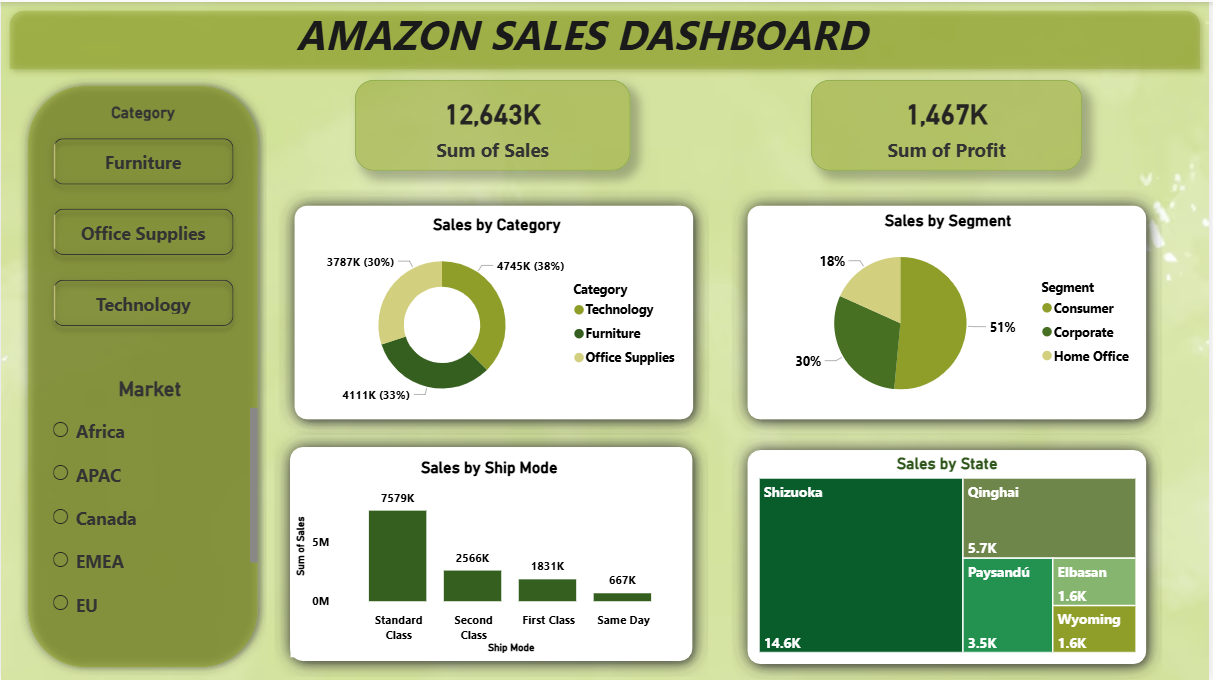

The dashboard page shown, as its layout file describes it:
{"tool":"powerbi","page":{"name":"Page 1","canvas":[1280,720],"ordinal":0},"visuals":[{"type":"shape","box":[0,0,1280.4,80.4],"z":0},{"type":"textbox","box":[0,0,1231.4,80.4],"z":1000},{"type":"shape","box":[294.1,198,456.9,260.8],"z":2000},{"type":"donutChart","title":"Sales by Category","fields":{"Category":["Orders.Category"],"Y":["Sum(Orders.Sales)"]},"box":[323.5,225.5,405.9,211.8],"z":3000},{"type":"shape","box":[18.8,79.2,262.5,635.4],"z":4000},{"type":"shape","box":[774.5,198,456.9,260.8],"z":5000},{"type":"shape","box":[774.5,458.8,456.9,260.8],"z":6000},{"type":"shape","box":[290.2,454.9,460.8,260.8],"z":7000},{"type":"treemap","title":"Sales by State","fields":{"Values":["Sum(Orders.Sales)"],"Group":["Orders.State"]},"box":[798,478.4,409.8,215.7],"z":8000},{"type":"pieChart","title":" Sales by Segment","fields":{"Y":["Sum(Orders.Sales)"],"Category":["Orders.Segment"]},"box":[798,221.6,411.8,217.6],"z":9000},{"type":"clusteredColumnChart","title":" Sales by Ship Mode","fields":{"Category":["Orders.Ship Mode"],"Y":["Sum(Orders.Sales)"]},"box":[307,483.5,421.5,211.6],"z":10000},{"type":"advancedSlicerVisual","fields":{"Values":["Orders.Category"]},"box":[37.5,106.2,225,254.2],"z":11000},{"type":"listSlicer","fields":{"Values":["Orders.Market"]},"box":[37.5,397.9,239.6,268.8],"z":12000},{"type":"card","fields":{"Values":["Sum(Orders.Sales)"]},"box":[375,83.3,291.7,95.8],"z":13000},{"type":"card","fields":{"Values":["Sum(Orders.Profit)"]},"box":[858.3,83.3,287.5,95.8],"z":14000}]}

Visuals, with their boxes in screenshot pixels (x1, y1, x2, y2), scaled from the page's 1280x720 canvas onto the 1213x680 screenshot:
shape: x1=0 y1=0 x2=1212 y2=76
textbox: x1=0 y1=0 x2=1167 y2=76
shape: x1=279 y1=187 x2=712 y2=433
"Sales by Category" donutChart: x1=307 y1=213 x2=691 y2=413
shape: x1=18 y1=75 x2=267 y2=675
shape: x1=734 y1=187 x2=1167 y2=433
shape: x1=734 y1=433 x2=1167 y2=679
shape: x1=275 y1=430 x2=712 y2=676
"Sales by State" treemap: x1=756 y1=452 x2=1145 y2=656
" Sales by Segment" pieChart: x1=756 y1=209 x2=1146 y2=415
" Sales by Ship Mode" clusteredColumnChart: x1=291 y1=457 x2=690 y2=656
advancedSlicerVisual - Orders.Category: x1=36 y1=100 x2=249 y2=340
listSlicer - Orders.Market: x1=36 y1=376 x2=263 y2=630
card - Sum(Orders.Sales): x1=355 y1=79 x2=632 y2=169
card - Sum(Orders.Profit): x1=813 y1=79 x2=1086 y2=169
